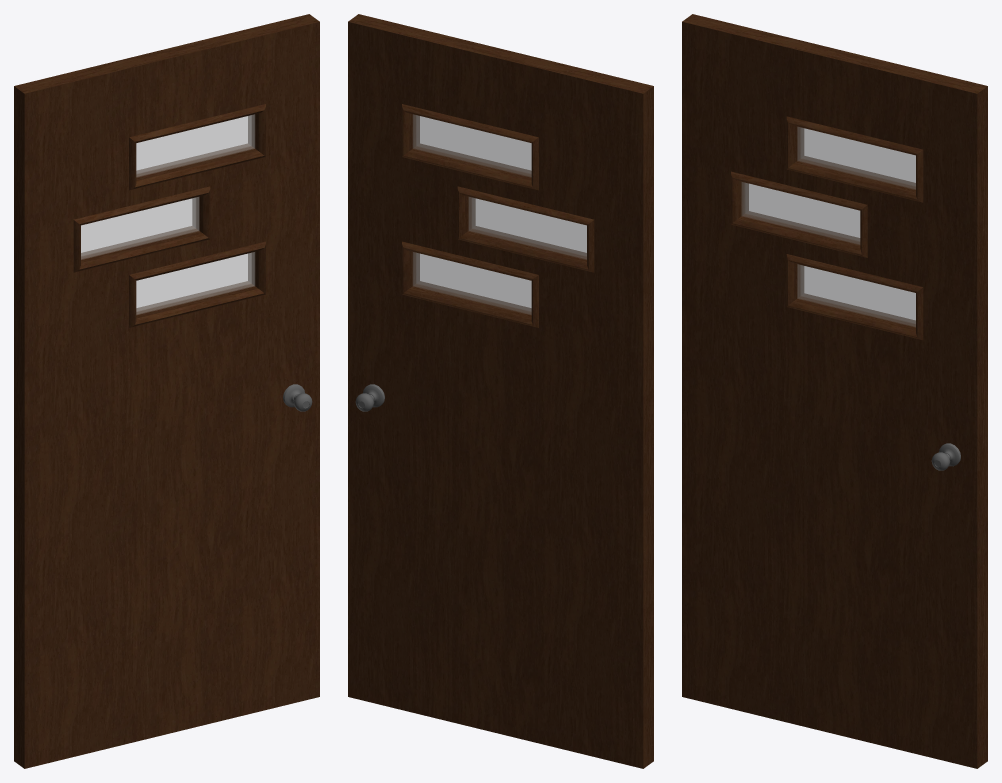
The model's file is d_leaf_a.glb.
3 renders of one model, left to right at view 1: azimuth 30°, elevation 25°; view 2: azimuth 150°, elevation 25°; view 3: azimuth 330°, elevation 25°, orthographic.
Visible parts, largest first — view 1: doorFront_A_01_Wood027_0, doorFront_A_01_doorFront_glass_0, doorFront_A_01_doorFront_knob_0; view 2: doorFront_A_01_Wood027_0, doorFront_A_01_doorFront_glass_0, doorFront_A_01_doorFront_knob_0; view 3: doorFront_A_01_Wood027_0, doorFront_A_01_doorFront_glass_0, doorFront_A_01_doorFront_knob_0.
Part boxes in pixels (x1=…): doorFront_A_01_Wood027_0: x1=14, y1=14, x2=319, y2=768; doorFront_A_01_doorFront_glass_0: x1=81, y1=114, x2=254, y2=314; doorFront_A_01_doorFront_knob_0: x1=283, y1=384, x2=312, y2=411; doorFront_A_01_Wood027_0: x1=348, y1=14, x2=653, y2=768; doorFront_A_01_doorFront_glass_0: x1=413, y1=114, x2=586, y2=314; doorFront_A_01_doorFront_knob_0: x1=355, y1=384, x2=384, y2=411; doorFront_A_01_Wood027_0: x1=682, y1=14, x2=987, y2=768; doorFront_A_01_doorFront_glass_0: x1=741, y1=127, x2=915, y2=327; doorFront_A_01_doorFront_knob_0: x1=931, y1=443, x2=960, y2=470.
Bounding box in the file's own units: 0.9202 × 2.01 × 0.197.
3 materials, 1 textured.
